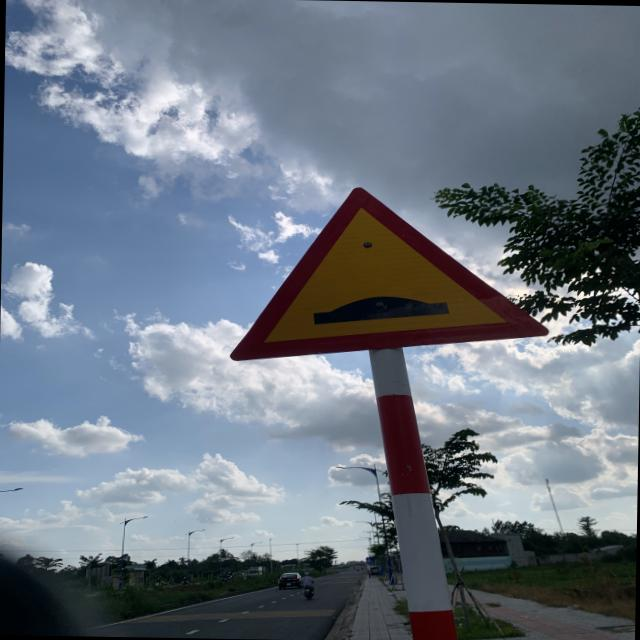Duong_Cong_Ben_Phai: (228, 182, 550, 370)
